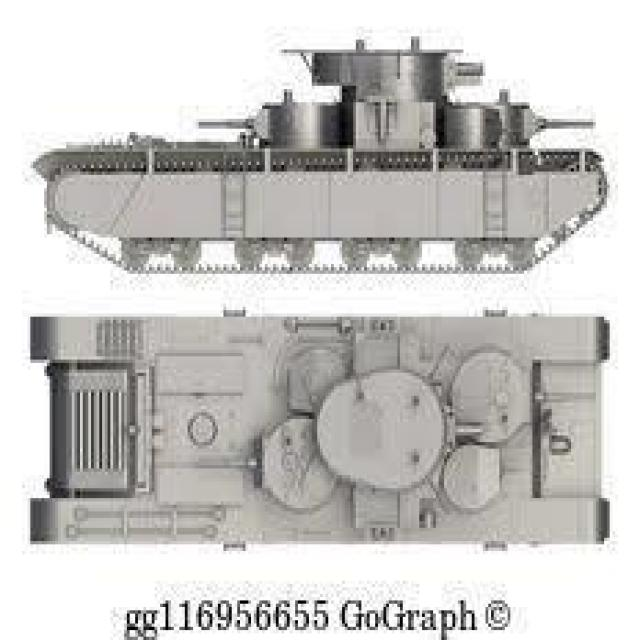Tanks: (29, 310, 611, 548), (33, 36, 613, 274)
